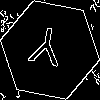Y: (25, 25, 65, 76)
